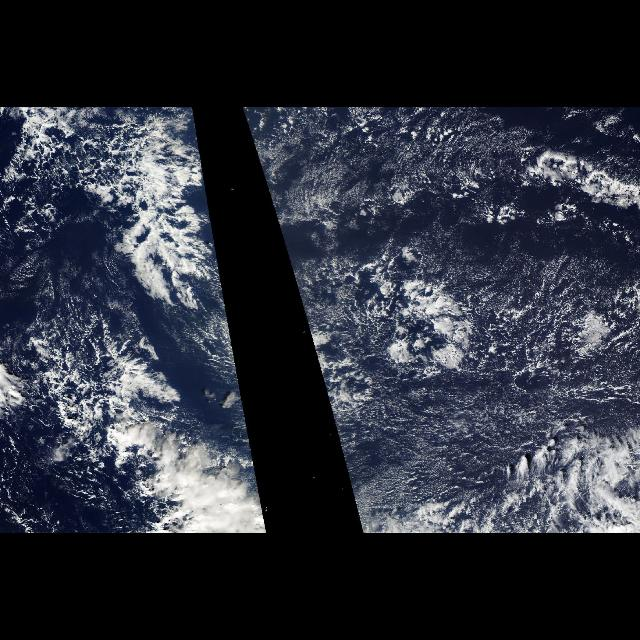Fish: (26, 117, 240, 533)
Gravel: (272, 116, 636, 518), (3, 322, 161, 418)
Sugar: (256, 116, 640, 518), (256, 479, 268, 518)
